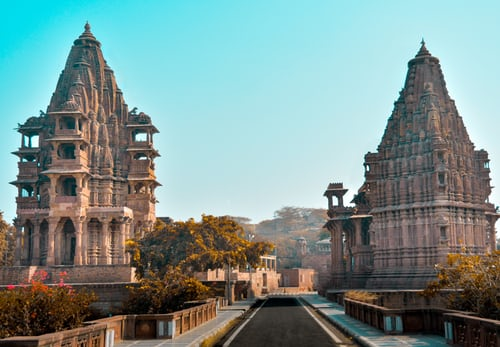Temple: (332, 31, 497, 306), (7, 23, 169, 286)
